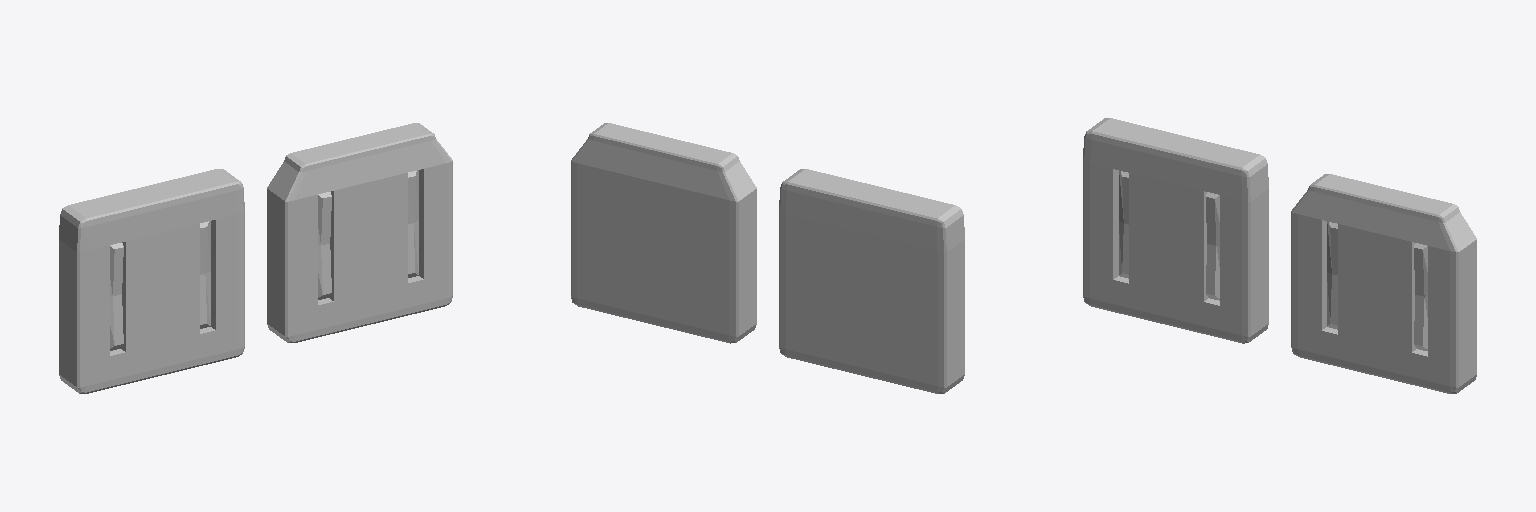
Rendered from PAREDES SEGUNDA PLANTA.obj.
The picture shows the model from 3 angles: view 1: azimuth 30°, elevation 25°; view 2: azimuth 150°, elevation 25°; view 3: azimuth 330°, elevation 25°; orthographic projection.
Parts seen in each view (by area): view 1: pCube2, pCube1; view 2: pCube2, pCube1; view 3: pCube2, pCube1.
Part boxes in pixels (left/top/right/bottom): pCube2: left=59, top=169, right=244, bottom=393; pCube1: left=267, top=123, right=452, bottom=342; pCube2: left=779, top=169, right=964, bottom=393; pCube1: left=571, top=123, right=756, bottom=343; pCube2: left=1083, top=118, right=1268, bottom=343; pCube1: left=1291, top=174, right=1476, bottom=393.
Bounding box in the file's own units: 20.04 × 8.93 × 1.87.